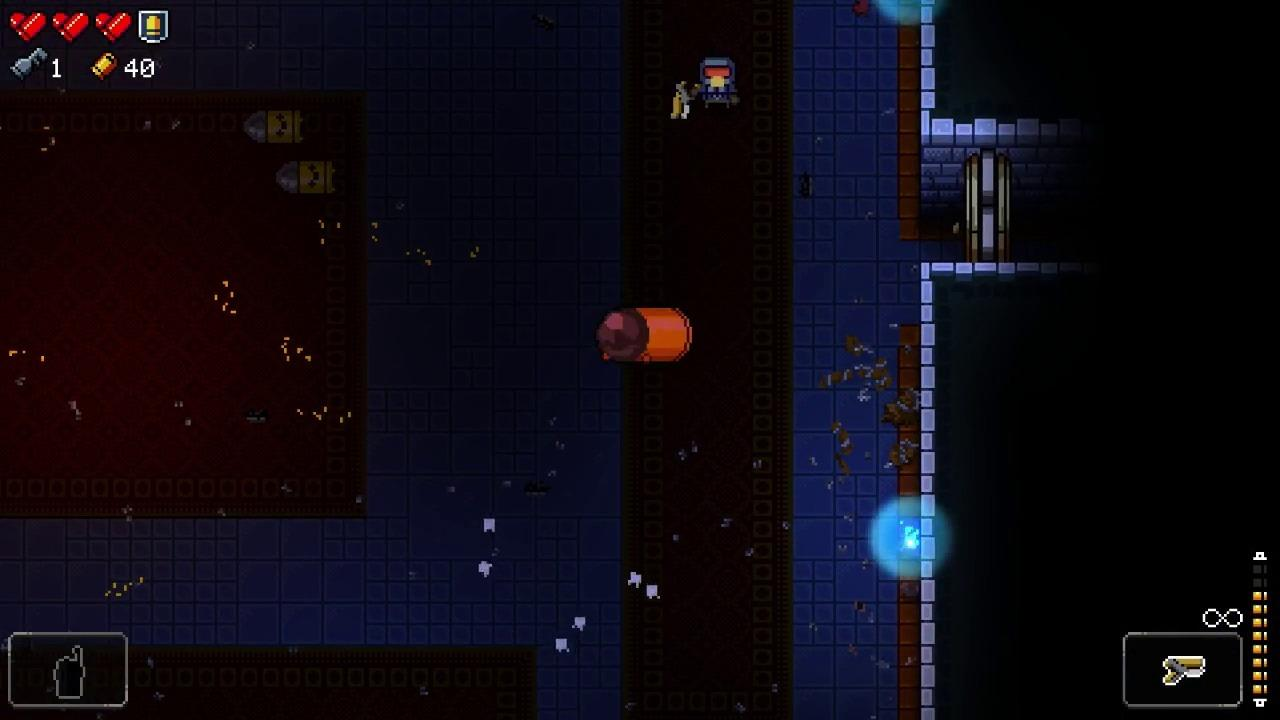dead_boss_shades: (598, 306, 693, 362)
dead_bullet_kin: (245, 113, 303, 147), (276, 162, 334, 195)
locked_door: (963, 148, 1009, 264)
player: (700, 59, 737, 107)
